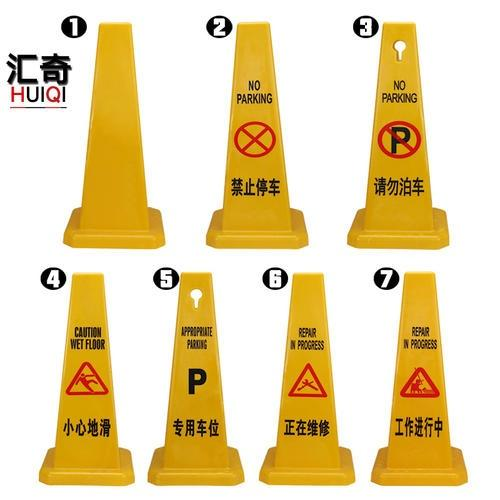cone_barrel: (342, 30, 453, 255), (201, 30, 310, 253), (64, 32, 166, 252), (370, 276, 469, 482), (36, 277, 133, 481), (148, 278, 243, 481), (259, 278, 353, 480)
